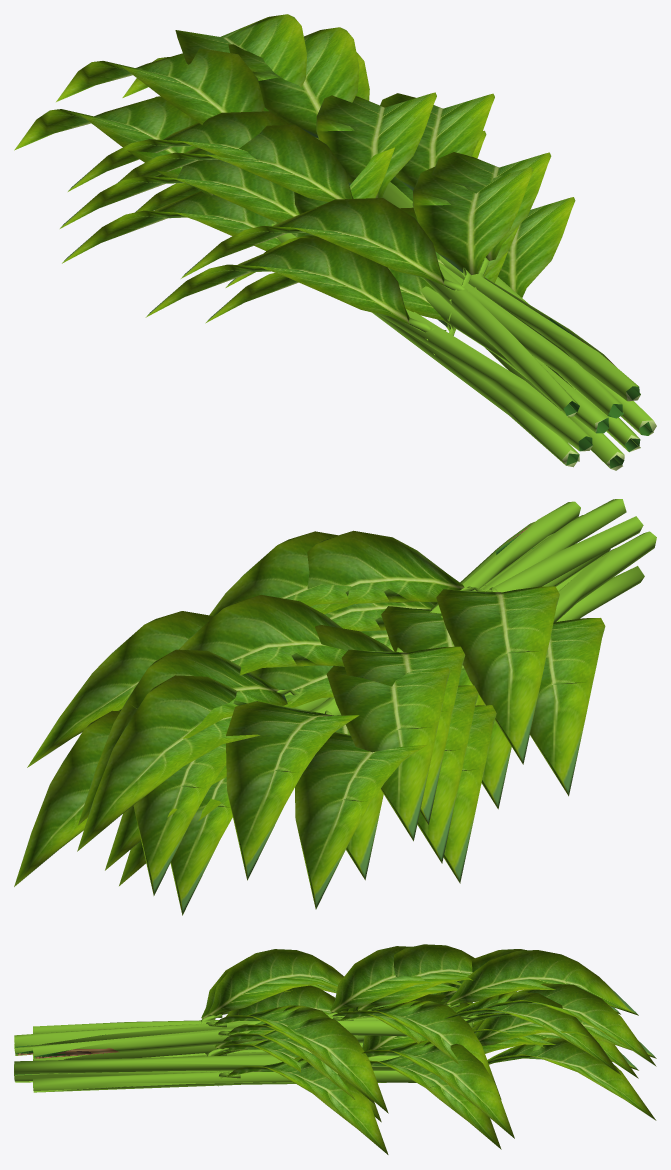
Rendered from NP_WaterSpinach_Harvest_LOD1.fbx.
3 views of the same model, one above another, from view 1: azimuth 30°, elevation 25°; view 2: azimuth 150°, elevation 25°; view 3: azimuth 270°, elevation 25° (orthographic). The views are drawn at different scales.
Parts seen in each view (by area): view 1: NP_WaterSpinach_Harvest; view 2: NP_WaterSpinach_Harvest; view 3: NP_WaterSpinach_Harvest.
Boxes of the visible parts, bbox=[...] form: NP_WaterSpinach_Harvest: bbox=[14, 14, 656, 470]; NP_WaterSpinach_Harvest: bbox=[14, 499, 656, 915]; NP_WaterSpinach_Harvest: bbox=[14, 944, 656, 1154].
Size of the model in its own units: 44.26 by 16.33 by 86.1.
